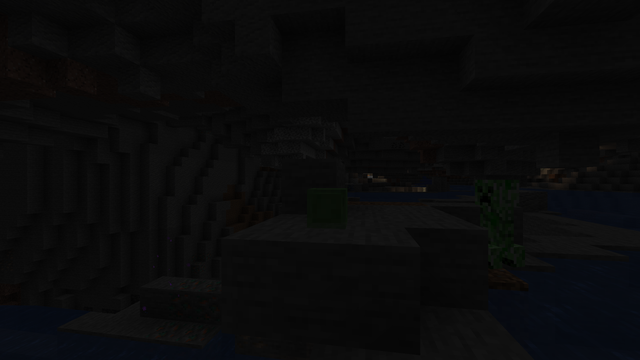creepers: (473, 175, 522, 269)
slimes: (305, 186, 347, 228)
